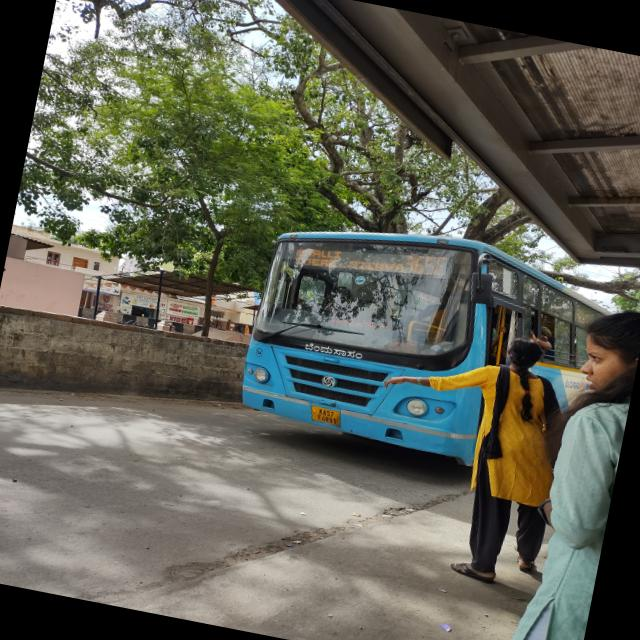bus: (224, 197, 615, 508)
display: (288, 227, 454, 290)
dnumber: (402, 249, 451, 280)
